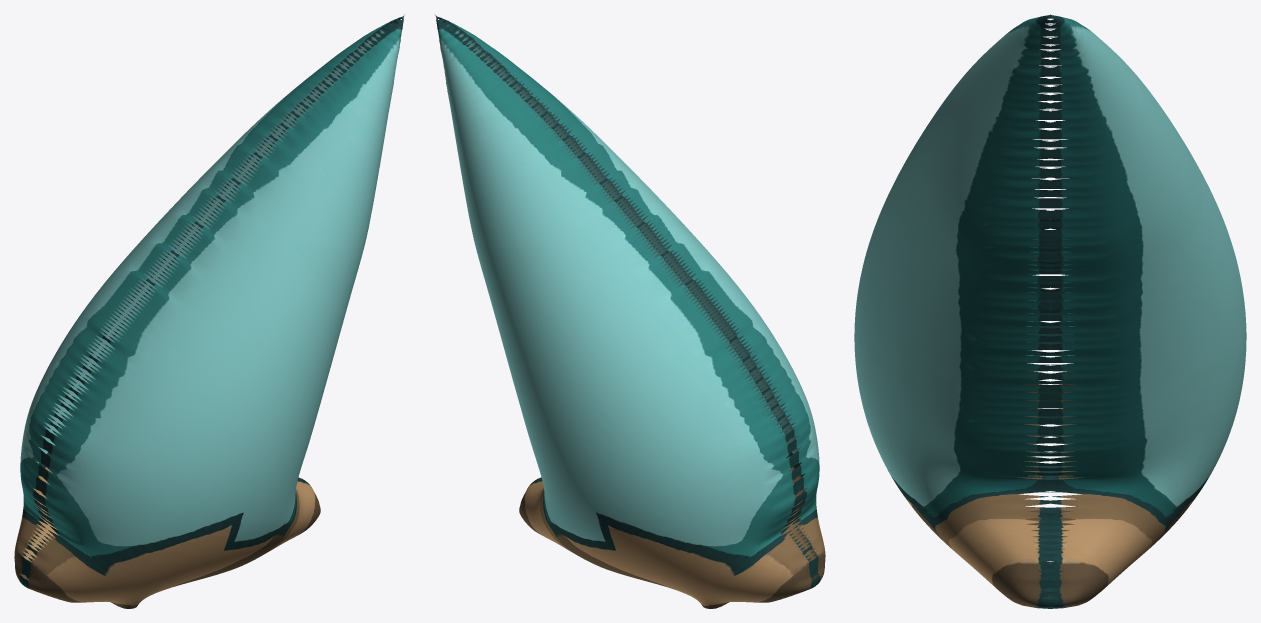
The model's file is stone_fin.glb.
3 renders of one model, left to right at view 1: azimuth 30°, elevation 25°; view 2: azimuth 150°, elevation 25°; view 3: azimuth 270°, elevation 25°, orthographic. The views are drawn at different scales.
Parts seen in each view (by area): view 1: stone_fin; view 2: stone_fin; view 3: stone_fin.
Boxes of the visible parts, x1,y1,x2,y2 form: stone_fin: [14, 15, 404, 608]; stone_fin: [435, 15, 825, 608]; stone_fin: [854, 14, 1246, 608].
Size of the model in its own units: 0.9868 by 1.23 by 0.6323.
Materials: 1 (1 with a texture image).
